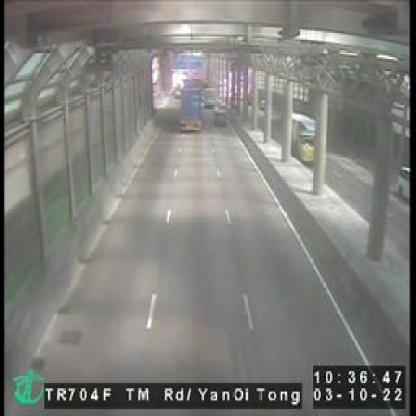Car: (212, 107, 227, 128)
Truck: (180, 81, 200, 132)
